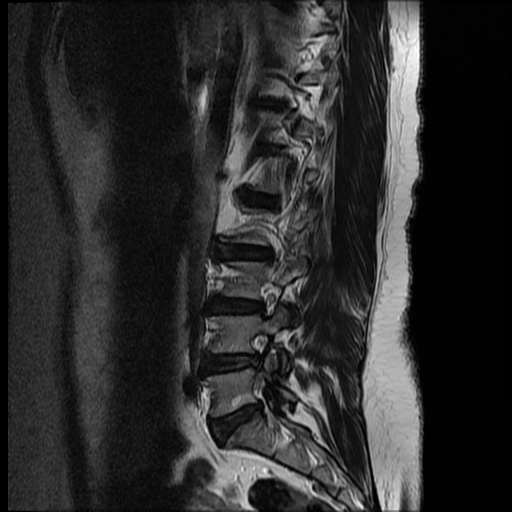RFS0: (248, 272, 284, 327)
